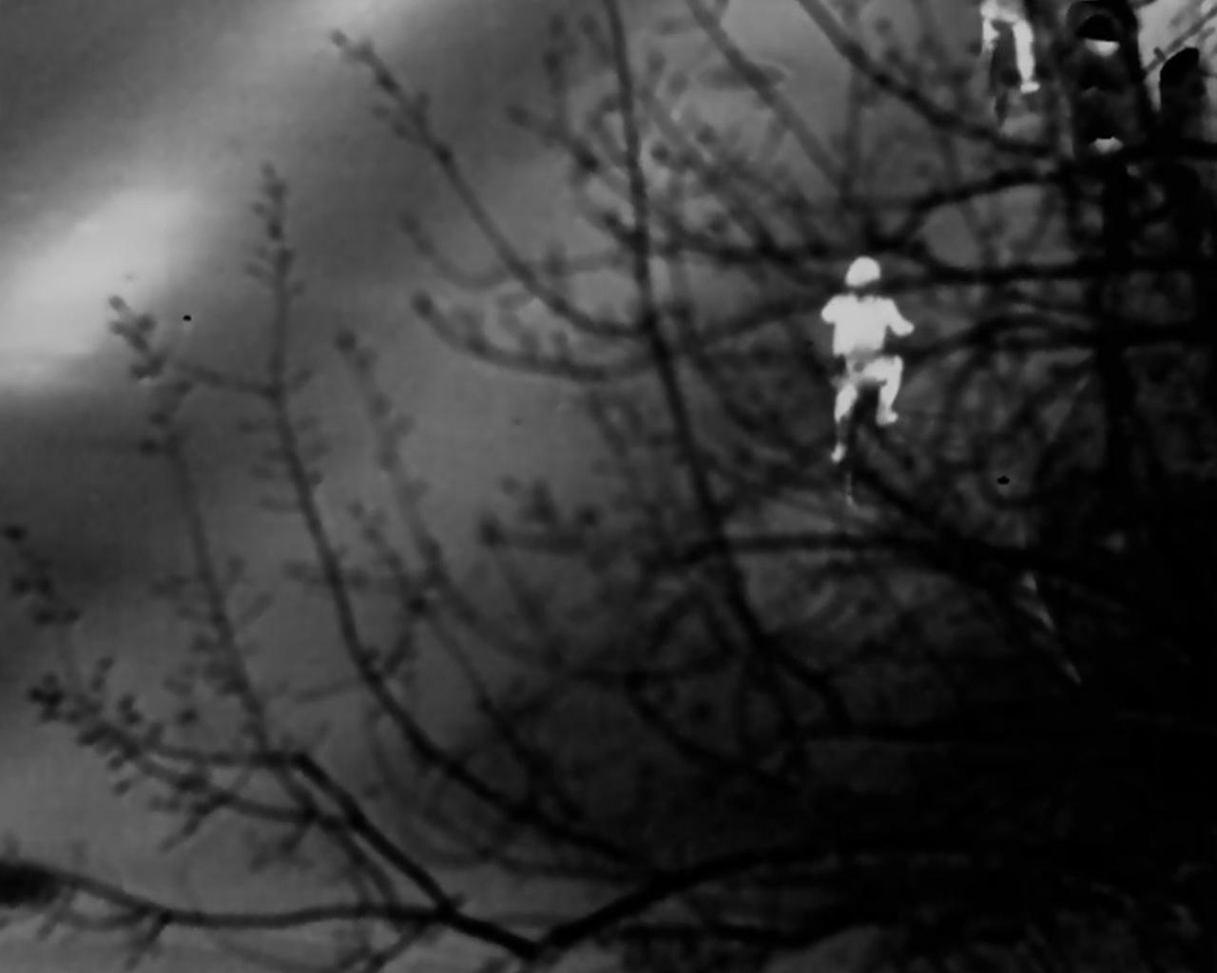person: (821, 253, 913, 463)
